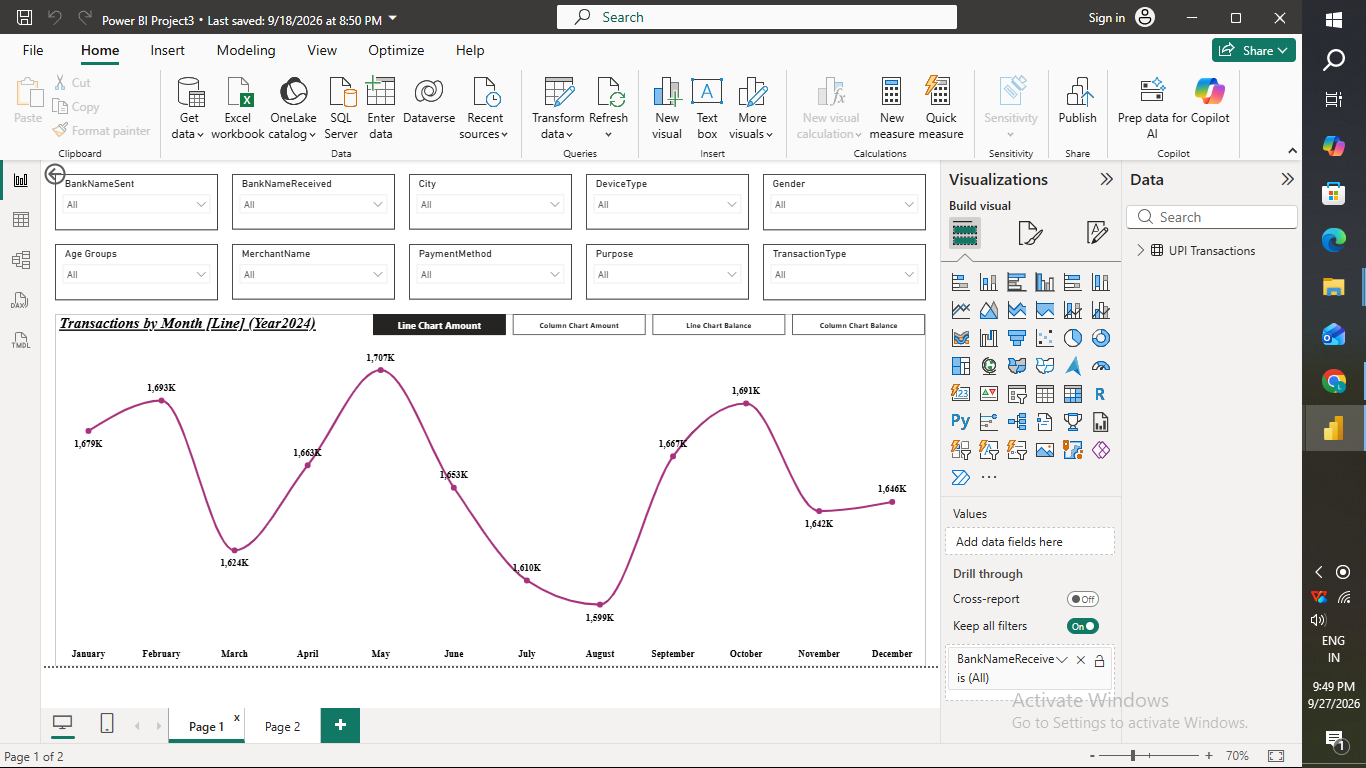

The dashboard page shown, as its layout file describes it:
{"tool":"powerbi","page":{"name":"Page 1","canvas":[1280,720],"ordinal":0},"visuals":[{"type":"slicer","fields":{"Values":["UPI Transactions.BankNameSent"]},"box":[20,20,232,80],"z":0},{"type":"slicer","fields":{"Values":["UPI Transactions.BankNameReceived"]},"box":[271.4,20.6,231.7,79.4],"z":1000},{"type":"slicer","fields":{"Values":["UPI Transactions.City"]},"box":[524,20.6,231.7,79.4],"z":2000},{"type":"slicer","fields":{"Values":["UPI Transactions.DeviceType"]},"box":[776,20.6,231.7,79.4],"z":3000},{"type":"slicer","fields":{"Values":["UPI Transactions.Gender"]},"box":[1028,20.6,232,80],"z":4000},{"type":"slicer","fields":{"Values":["UPI Transactions.Age Groups"]},"box":[20.5,118.9,232,80],"z":5000},{"type":"slicer","fields":{"Values":["UPI Transactions.MerchantName"]},"box":[271.9,119.5,231.7,79.4],"z":6000},{"type":"slicer","fields":{"Values":["UPI Transactions.PaymentMethod"]},"box":[524.5,119.5,231.7,79.4],"z":7000},{"type":"slicer","fields":{"Values":["UPI Transactions.Purpose"]},"box":[776.5,119.5,231.7,79.4],"z":8000},{"type":"slicer","fields":{"Values":["UPI Transactions.TransactionType"]},"box":[1028.5,119.5,232,80],"z":9000},{"type":"actionButton","box":[0,0,100,40],"z":10000},{"type":"lineChart","title":"Transactions by Month [Line] (Year2024)","fields":{"Category":["UPI Transactions.TransactionDate.Variation.Date Hierarchy.Month"],"Y":["Sum(UPI Transactions.Amount)"]},"box":[20.6,219,1239.7,501.6],"z":11000},{"type":"bookmarkNavigator","box":[473,219,787.3,30.2],"z":15000}]}

Visuals, with their boxes on the page's 1280x720 design canvas (x1, y1, x2, y2). These are canvas units, not pixel positions in the 1366x768 screenshot, which may show the page scaled, cropped or inside an application window:
slicer - UPI Transactions.BankNameSent: select_region(20, 20, 252, 100)
slicer - UPI Transactions.BankNameReceived: select_region(271, 21, 503, 100)
slicer - UPI Transactions.City: select_region(524, 21, 756, 100)
slicer - UPI Transactions.DeviceType: select_region(776, 21, 1008, 100)
slicer - UPI Transactions.Gender: select_region(1028, 21, 1260, 101)
slicer - UPI Transactions.Age Groups: select_region(20, 119, 252, 199)
slicer - UPI Transactions.MerchantName: select_region(272, 120, 504, 199)
slicer - UPI Transactions.PaymentMethod: select_region(524, 120, 756, 199)
slicer - UPI Transactions.Purpose: select_region(776, 120, 1008, 199)
slicer - UPI Transactions.TransactionType: select_region(1028, 120, 1260, 200)
actionButton: select_region(0, 0, 100, 40)
"Transactions by Month [Line] (Year2024)" lineChart: select_region(21, 219, 1260, 721)
bookmarkNavigator: select_region(473, 219, 1260, 249)
